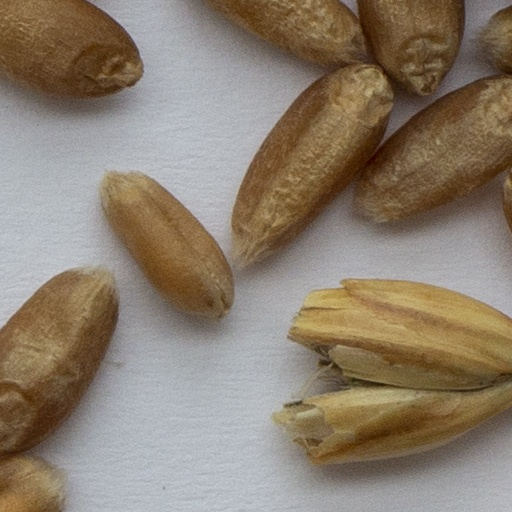Peel-poly: (275, 279, 511, 465)
